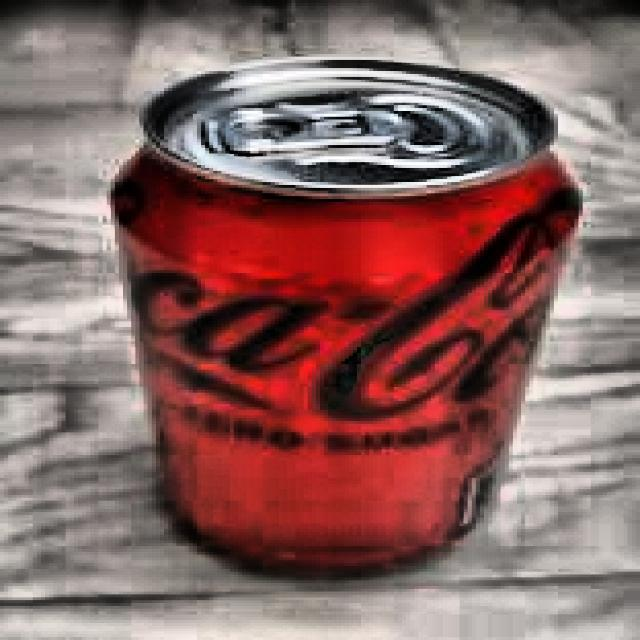Cans: (81, 28, 599, 606)
